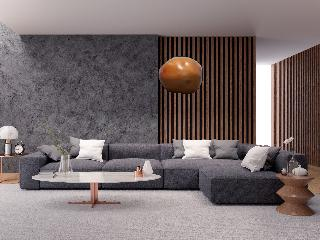potato: (157, 54, 207, 98)
